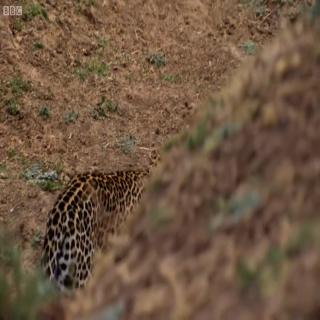Leopard: (34, 150, 148, 287)
